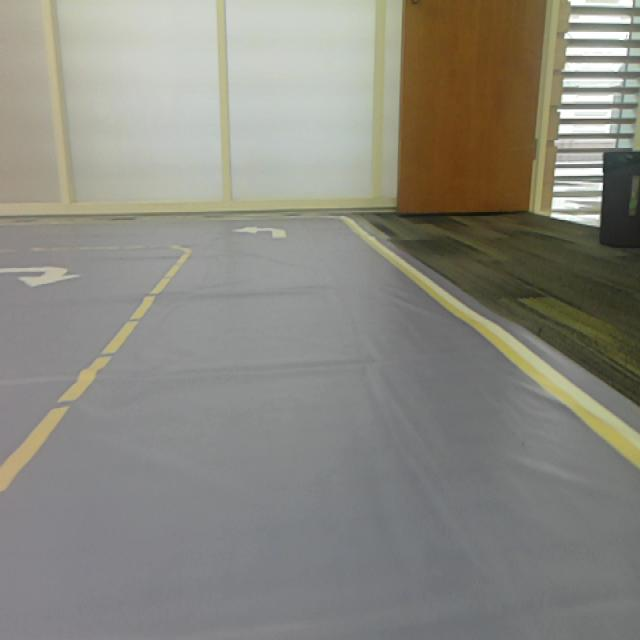left_lane: (0, 252, 187, 496)
right_lane: (353, 230, 640, 474)
